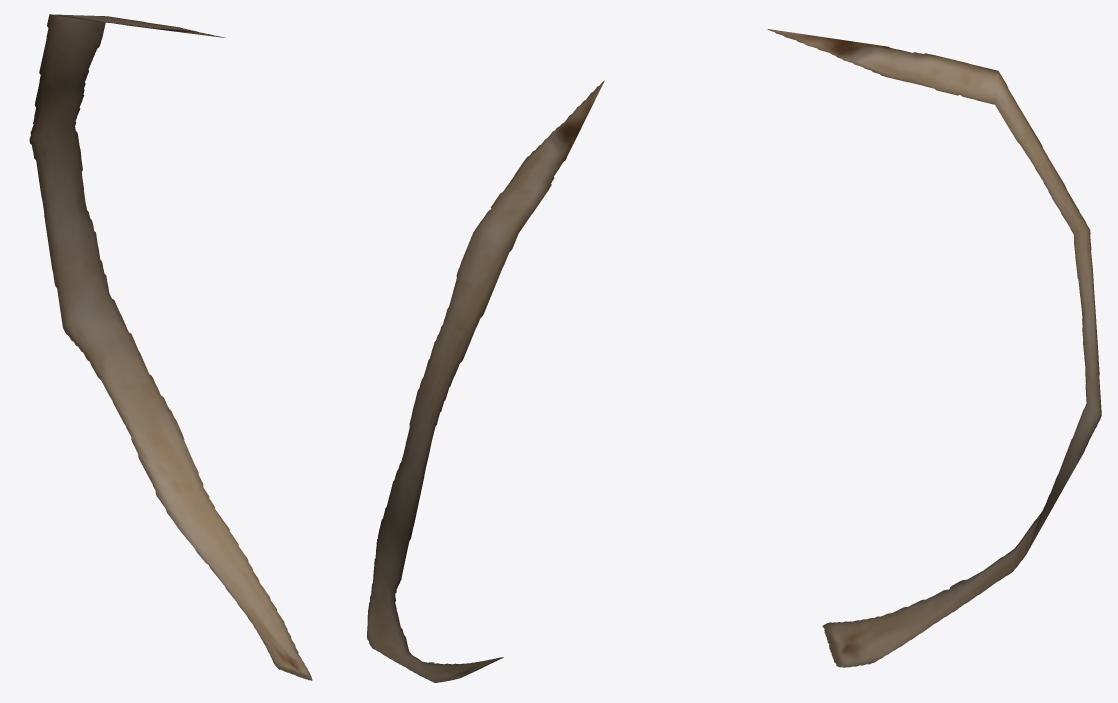
The model's file is MEP_Ribs_03.fbx.
The picture shows the model from 3 angles, left to right: view 1: azimuth 30°, elevation 25°; view 2: azimuth 150°, elevation 25°; view 3: azimuth 270°, elevation 25°; orthographic projection. The views are drawn at different scales.
Parts seen in each view (by area): view 1: MEP_Ribs_03; view 2: MEP_Ribs_03; view 3: MEP_Ribs_03.
Boxes of the visible parts, x1,y1,x2,y2 form: MEP_Ribs_03: (29,14,312,680); MEP_Ribs_03: (367,80,604,682); MEP_Ribs_03: (767,29,1101,667).
Size of the model in its own units: 0.3321 by 1.18 by 0.7527.
